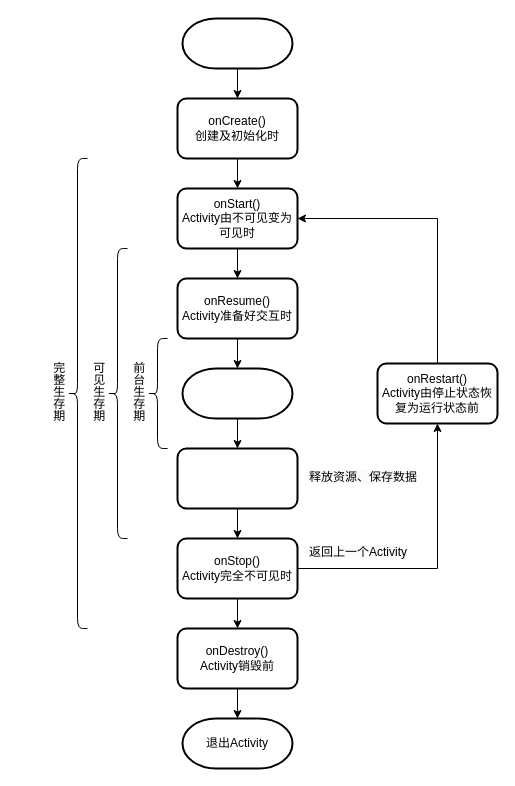
Some shapes in this 515 by 786 pixel diagram are drawn without their labels. Here are the shapes that lost their labels. From the top down, the centre of each, then its label:
At (x=237, y=43): "启动Activity".
At (x=237, y=393): "Activity运行中".
At (x=237, y=478): "onPause() 准备启动或恢复另一个Activity时".
